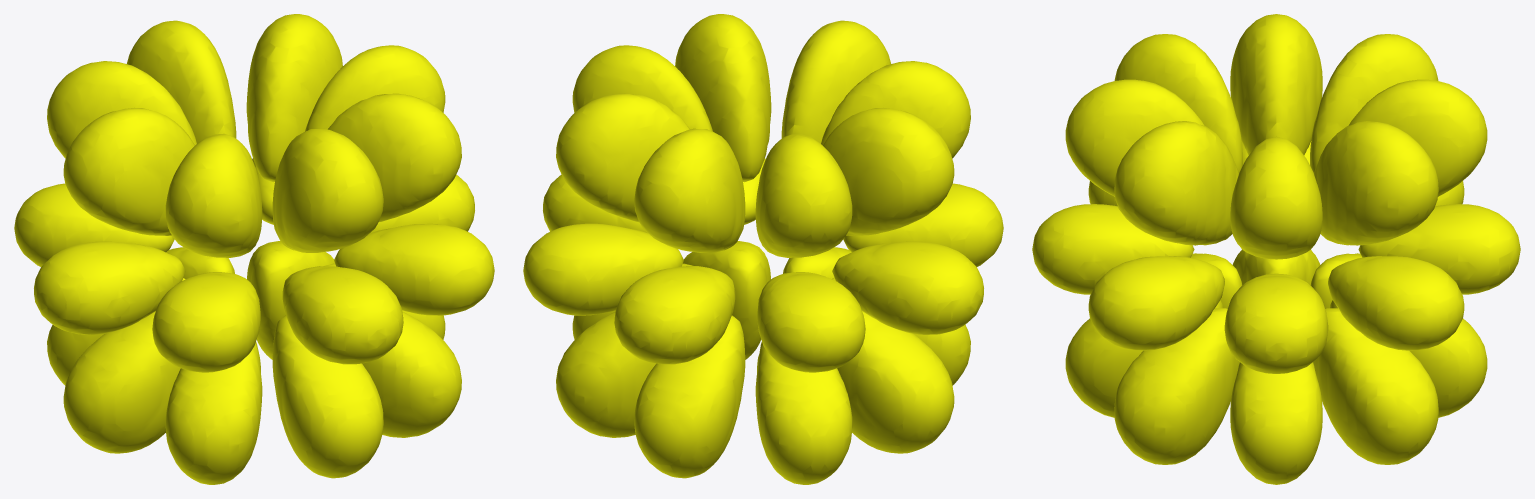
File: orb_n=7_ l=6 _m=4.fbx
3 renders of one model, left to right at view 1: azimuth 30°, elevation 25°; view 2: azimuth 150°, elevation 25°; view 3: azimuth 270°, elevation 25°, orthographic.
Parts seen in each view (by area): view 1: orb_n=7_ l=6 _m=4; view 2: orb_n=7_ l=6 _m=4; view 3: orb_n=7_ l=6 _m=4.
Boxes of the visible parts, x1,y1,x2,y2 form: orb_n=7_ l=6 _m=4: (14,14,494,484); orb_n=7_ l=6 _m=4: (523,14,1003,484); orb_n=7_ l=6 _m=4: (1032,14,1520,484).
Bounding box in the file's own units: 16099 × 12182 × 16099.
